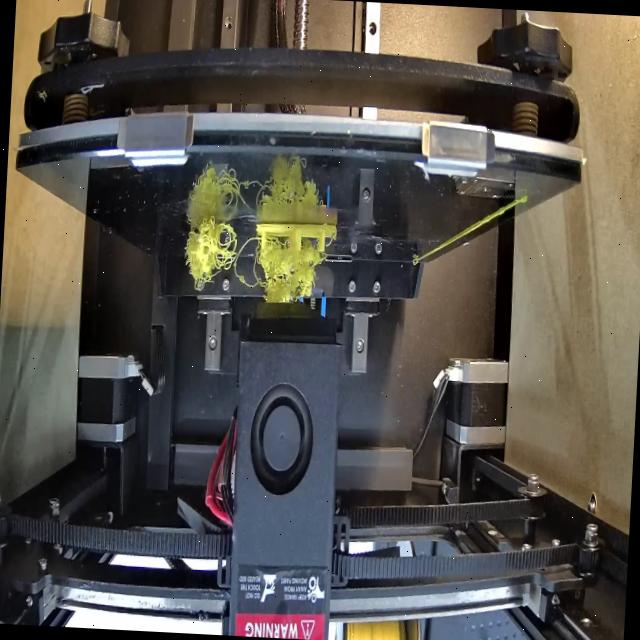spaghetti: (234, 236, 322, 311), (176, 222, 238, 304)
